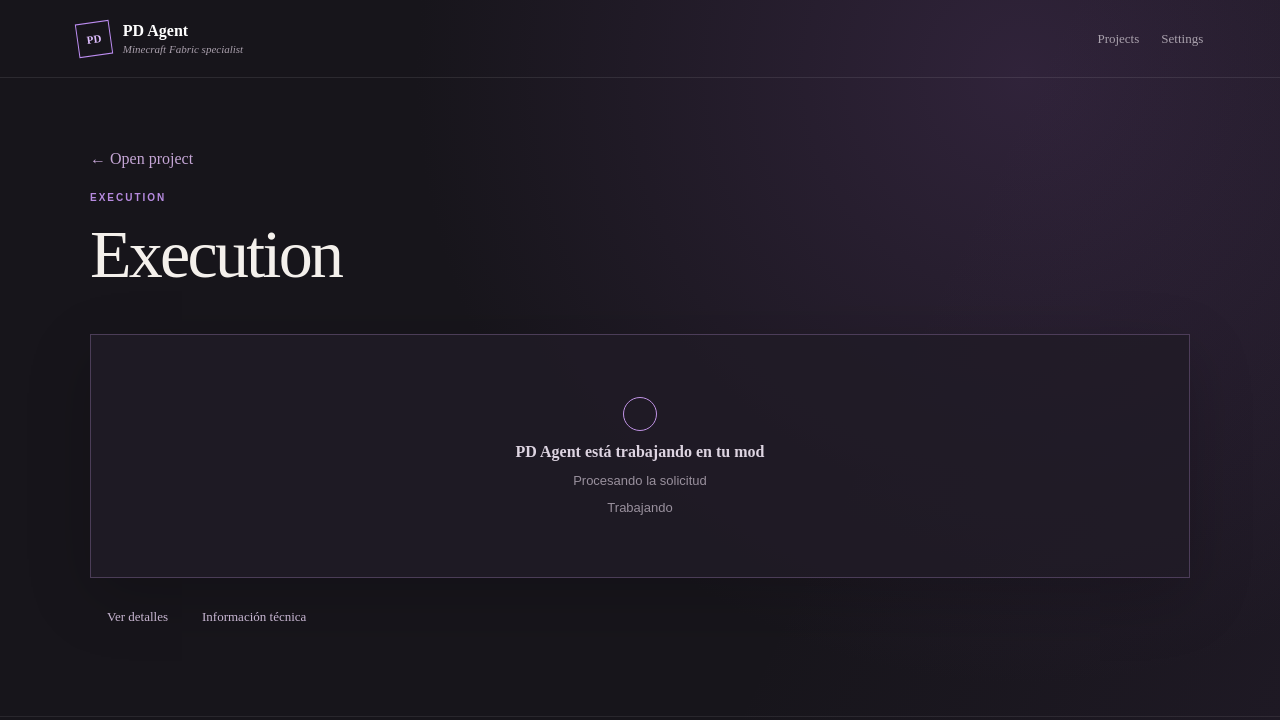
Scenario: frontend route and state foundations › supports human details
The width and height of the screenshot is (1280, 720).
Click the button "Ver detalles".
click(138, 617)  # box [90,598,185,636]
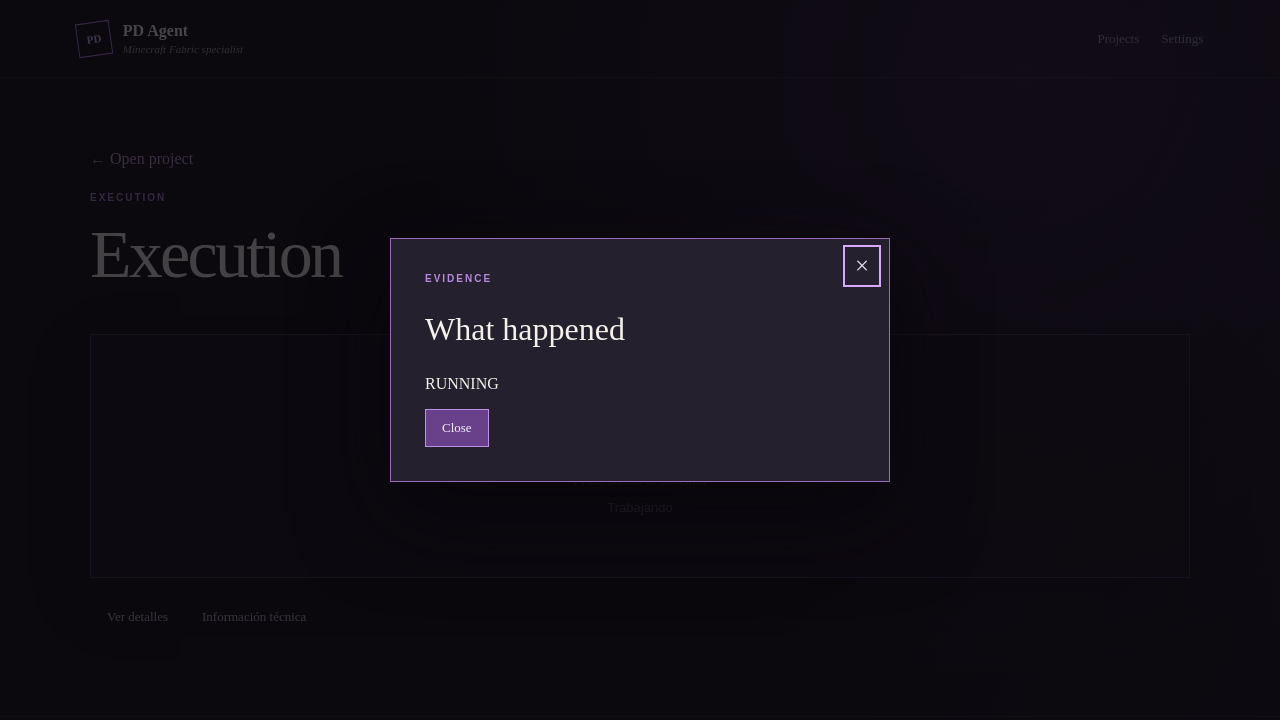
Result: the dialog shows "What happened" at [425,311,625,347]
